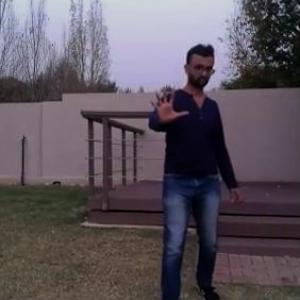follow_hand: (143, 84, 190, 129)
